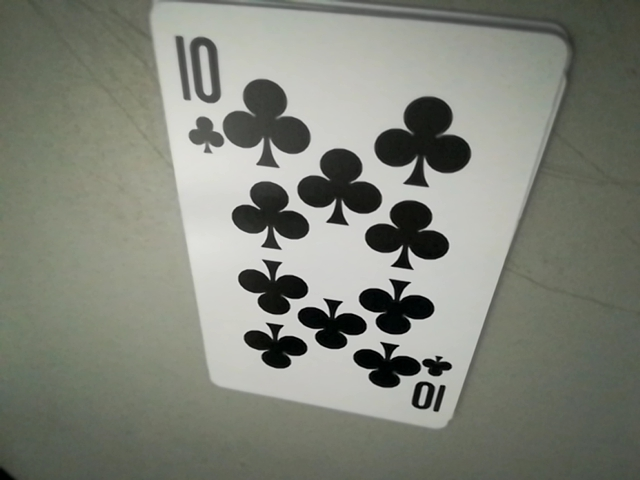mh 10: (163, 16, 232, 157), (404, 347, 452, 420)
